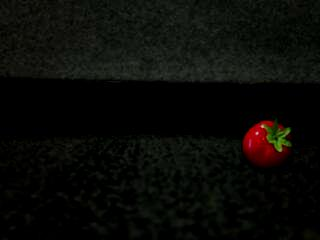Tomato: (240, 116, 296, 174)
